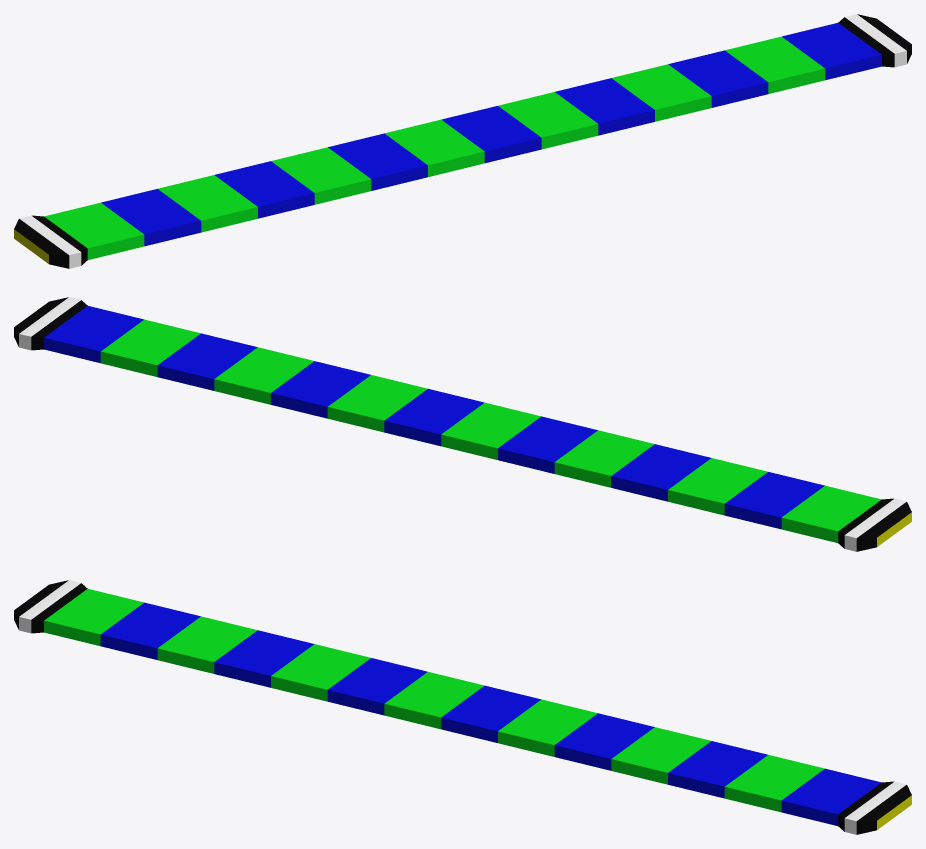
The model's file is FPV_Bar.fbx.
3 renders of one model, top to bottom at view 1: azimuth 30°, elevation 25°; view 2: azimuth 150°, elevation 25°; view 3: azimuth 330°, elevation 25°, orthographic.
Parts seen in each view (by area): view 1: FPV_Bar; view 2: FPV_Bar; view 3: FPV_Bar.
Boxes of the visible parts, x1,y1,x2,y2 form: FPV_Bar: [14, 14, 911, 268]; FPV_Bar: [14, 297, 911, 551]; FPV_Bar: [14, 580, 911, 834].
Size of the model in its own units: 456 by 6.9 by 46.
